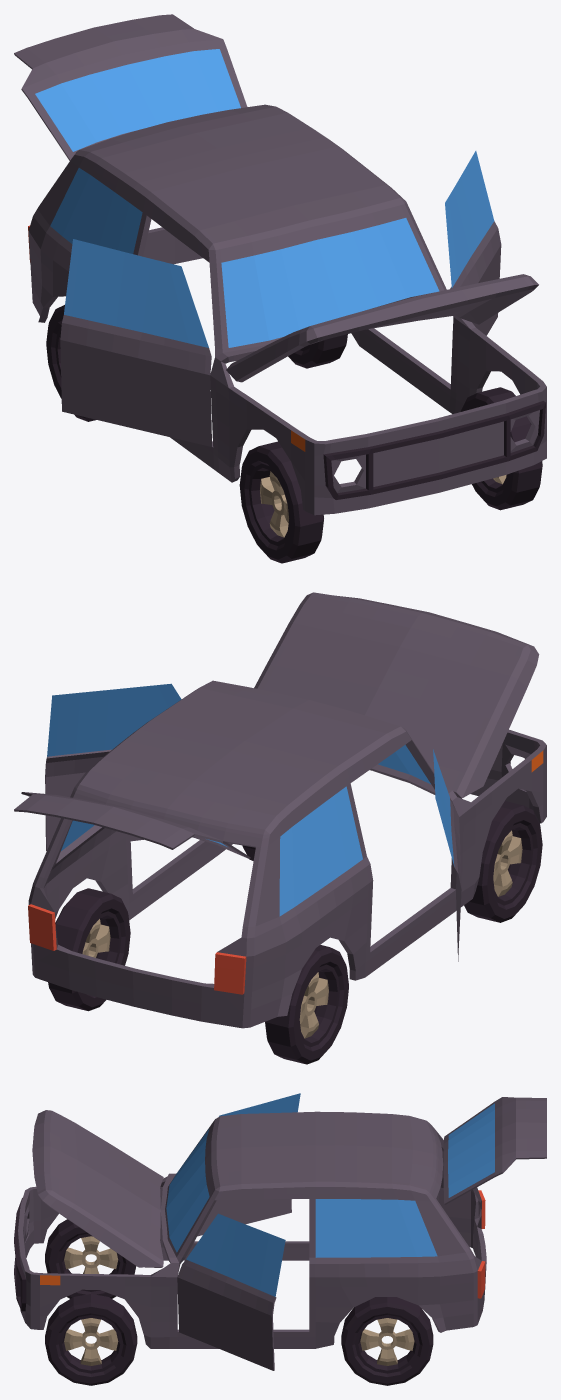
File: Нива Покраска.fbx
3 views of the same model, one above another, from view 1: azimuth 30°, elevation 25°; view 2: azimuth 150°, elevation 25°; view 3: azimuth 270°, elevation 25° (orthographic). The views are drawn at different scales.
Parts seen in each view (by area): view 1: Кузов, Лобовое стекло, Дверь прав, Заднее стекло, Окно правой двери, Багажник, Капот, Колесо перед правое, Заднее окно, Окно левой двери, Колесо перед лев, Дверь лев (+2 smaller); view 2: Кузов, Капот, Заднее окно, Окно левой двери, Колесо заднее прав, Колесо перед правое, Колесо заднее лев, Багажник, Дверь лев, Окно правой двери, Дверь прав, Лобовое стекло; view 3: Кузов, Капот, Дверь лев, Заднее окно, Колесо перед лев, Колесо заднее лев, Окно левой двери, Багажник, Заднее стекло, Колесо перед правое, Лобовое стекло, Дверь прав (+1 smaller).
Part boxes in pixels (x1,y1,x2,y2): Кузов: (28, 104, 546, 515); Лобовое стекло: (221, 218, 439, 347); Дверь прав: (60, 315, 211, 446); Заднее стекло: (35, 49, 240, 151); Окно правой двери: (64, 239, 208, 347); Багажник: (14, 14, 247, 160); Капот: (226, 274, 538, 382); Колесо перед правое: (239, 441, 323, 563); Заднее окно: (50, 168, 142, 253); Окно левой двери: (445, 151, 494, 287); Колесо перед лев: (461, 387, 542, 510); Дверь лев: (450, 221, 501, 335); Кузов: (28, 680, 546, 1028); Капот: (254, 592, 539, 798); Заднее окно: (61, 786, 362, 916); Окно левой двери: (47, 683, 181, 756); Колесо заднее прав: (265, 945, 348, 1064); Колесо перед правое: (464, 801, 542, 922); Колесо заднее лев: (48, 888, 130, 1011); Багажник: (14, 792, 250, 859); Дверь лев: (45, 749, 143, 850); Окно правой двери: (433, 749, 454, 866); Дверь прав: (450, 798, 461, 961); Лобовое стекло: (378, 744, 430, 784); Кузов: (14, 1111, 486, 1348); Капот: (32, 1110, 163, 1267); Дверь лев: (177, 1259, 276, 1370); Заднее окно: (315, 1199, 437, 1257); Колесо перед лев: (45, 1294, 137, 1385); Колесо заднее лев: (341, 1297, 433, 1385); Окно левой двери: (186, 1213, 285, 1296); Багажник: (443, 1097, 546, 1204); Заднее стекло: (448, 1103, 494, 1197); Колесо перед правое: (45, 1219, 136, 1298); Лобовое стекло: (166, 1128, 209, 1252); Дверь прав: (197, 1199, 291, 1236).
Bounding box in the file's own units: 233 × 148 × 328.
